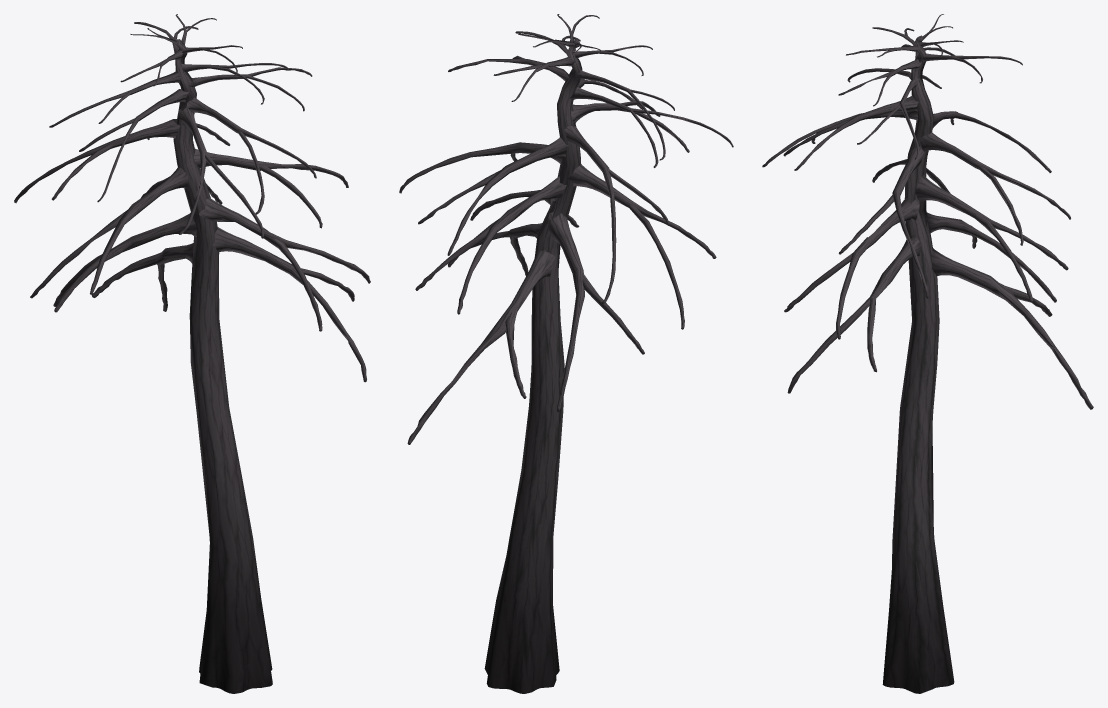
File: arvore_morta3.glb
The picture shows the model from 3 angles, left to right: view 1: azimuth 30°, elevation 25°; view 2: azimuth 150°, elevation 25°; view 3: azimuth 270°, elevation 25°; orthographic projection. The views are drawn at different scales.
Visible parts, largest first — view 1: DeadTree_3; view 2: DeadTree_3; view 3: DeadTree_3.
Boxes of the visible parts, x1=… form: DeadTree_3: x1=14, y1=14, x2=370, y2=693; DeadTree_3: x1=399, y1=14, x2=733, y2=693; DeadTree_3: x1=762, y1=14, x2=1093, y2=693.
Size of the model in its own units: 6.39 by 13.28 by 6.43.
Materials: 1 (1 with a texture image).
